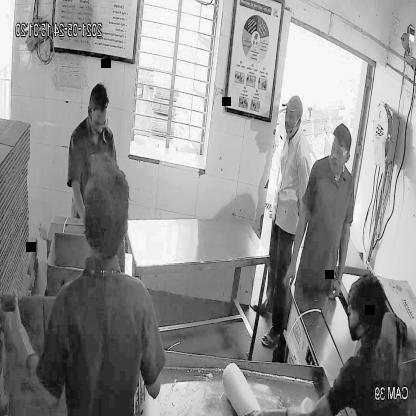goggles: (328, 142, 354, 160)
no_goggles: (284, 109, 303, 125)
